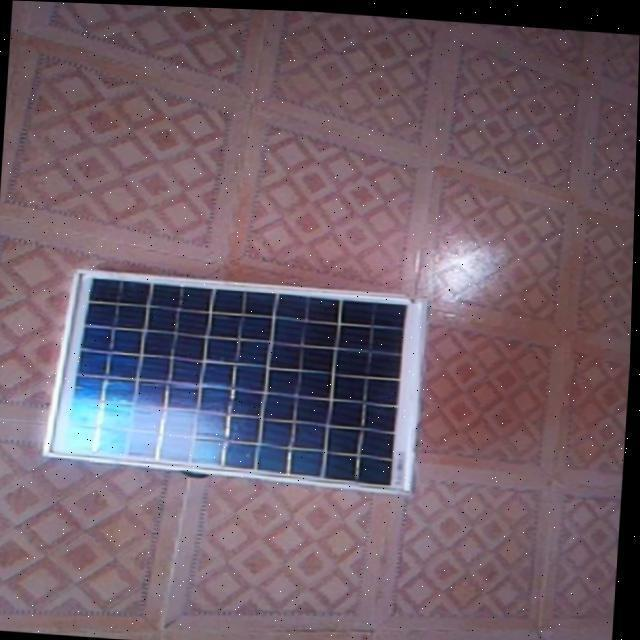Normal Solar Panel: (43, 268, 429, 492)
